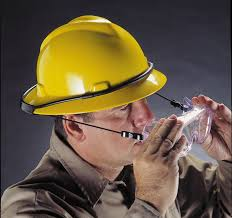Person_wearing_helmet: (15, 12, 171, 127)
